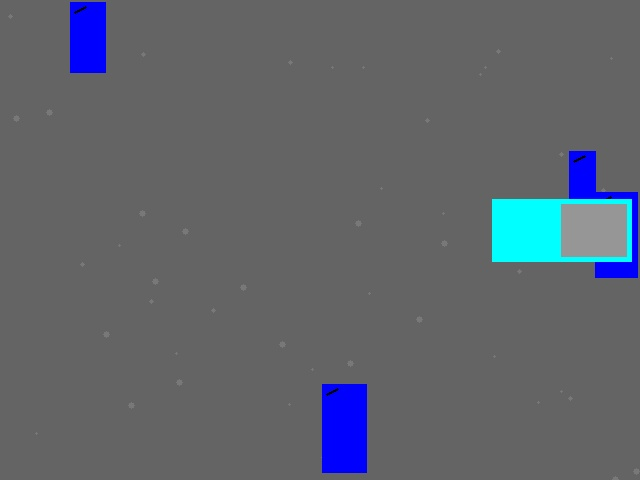motorcycle: (322, 384, 366, 472), (595, 192, 637, 277), (70, 2, 105, 72), (569, 151, 595, 203)
truck: (492, 199, 631, 261)
